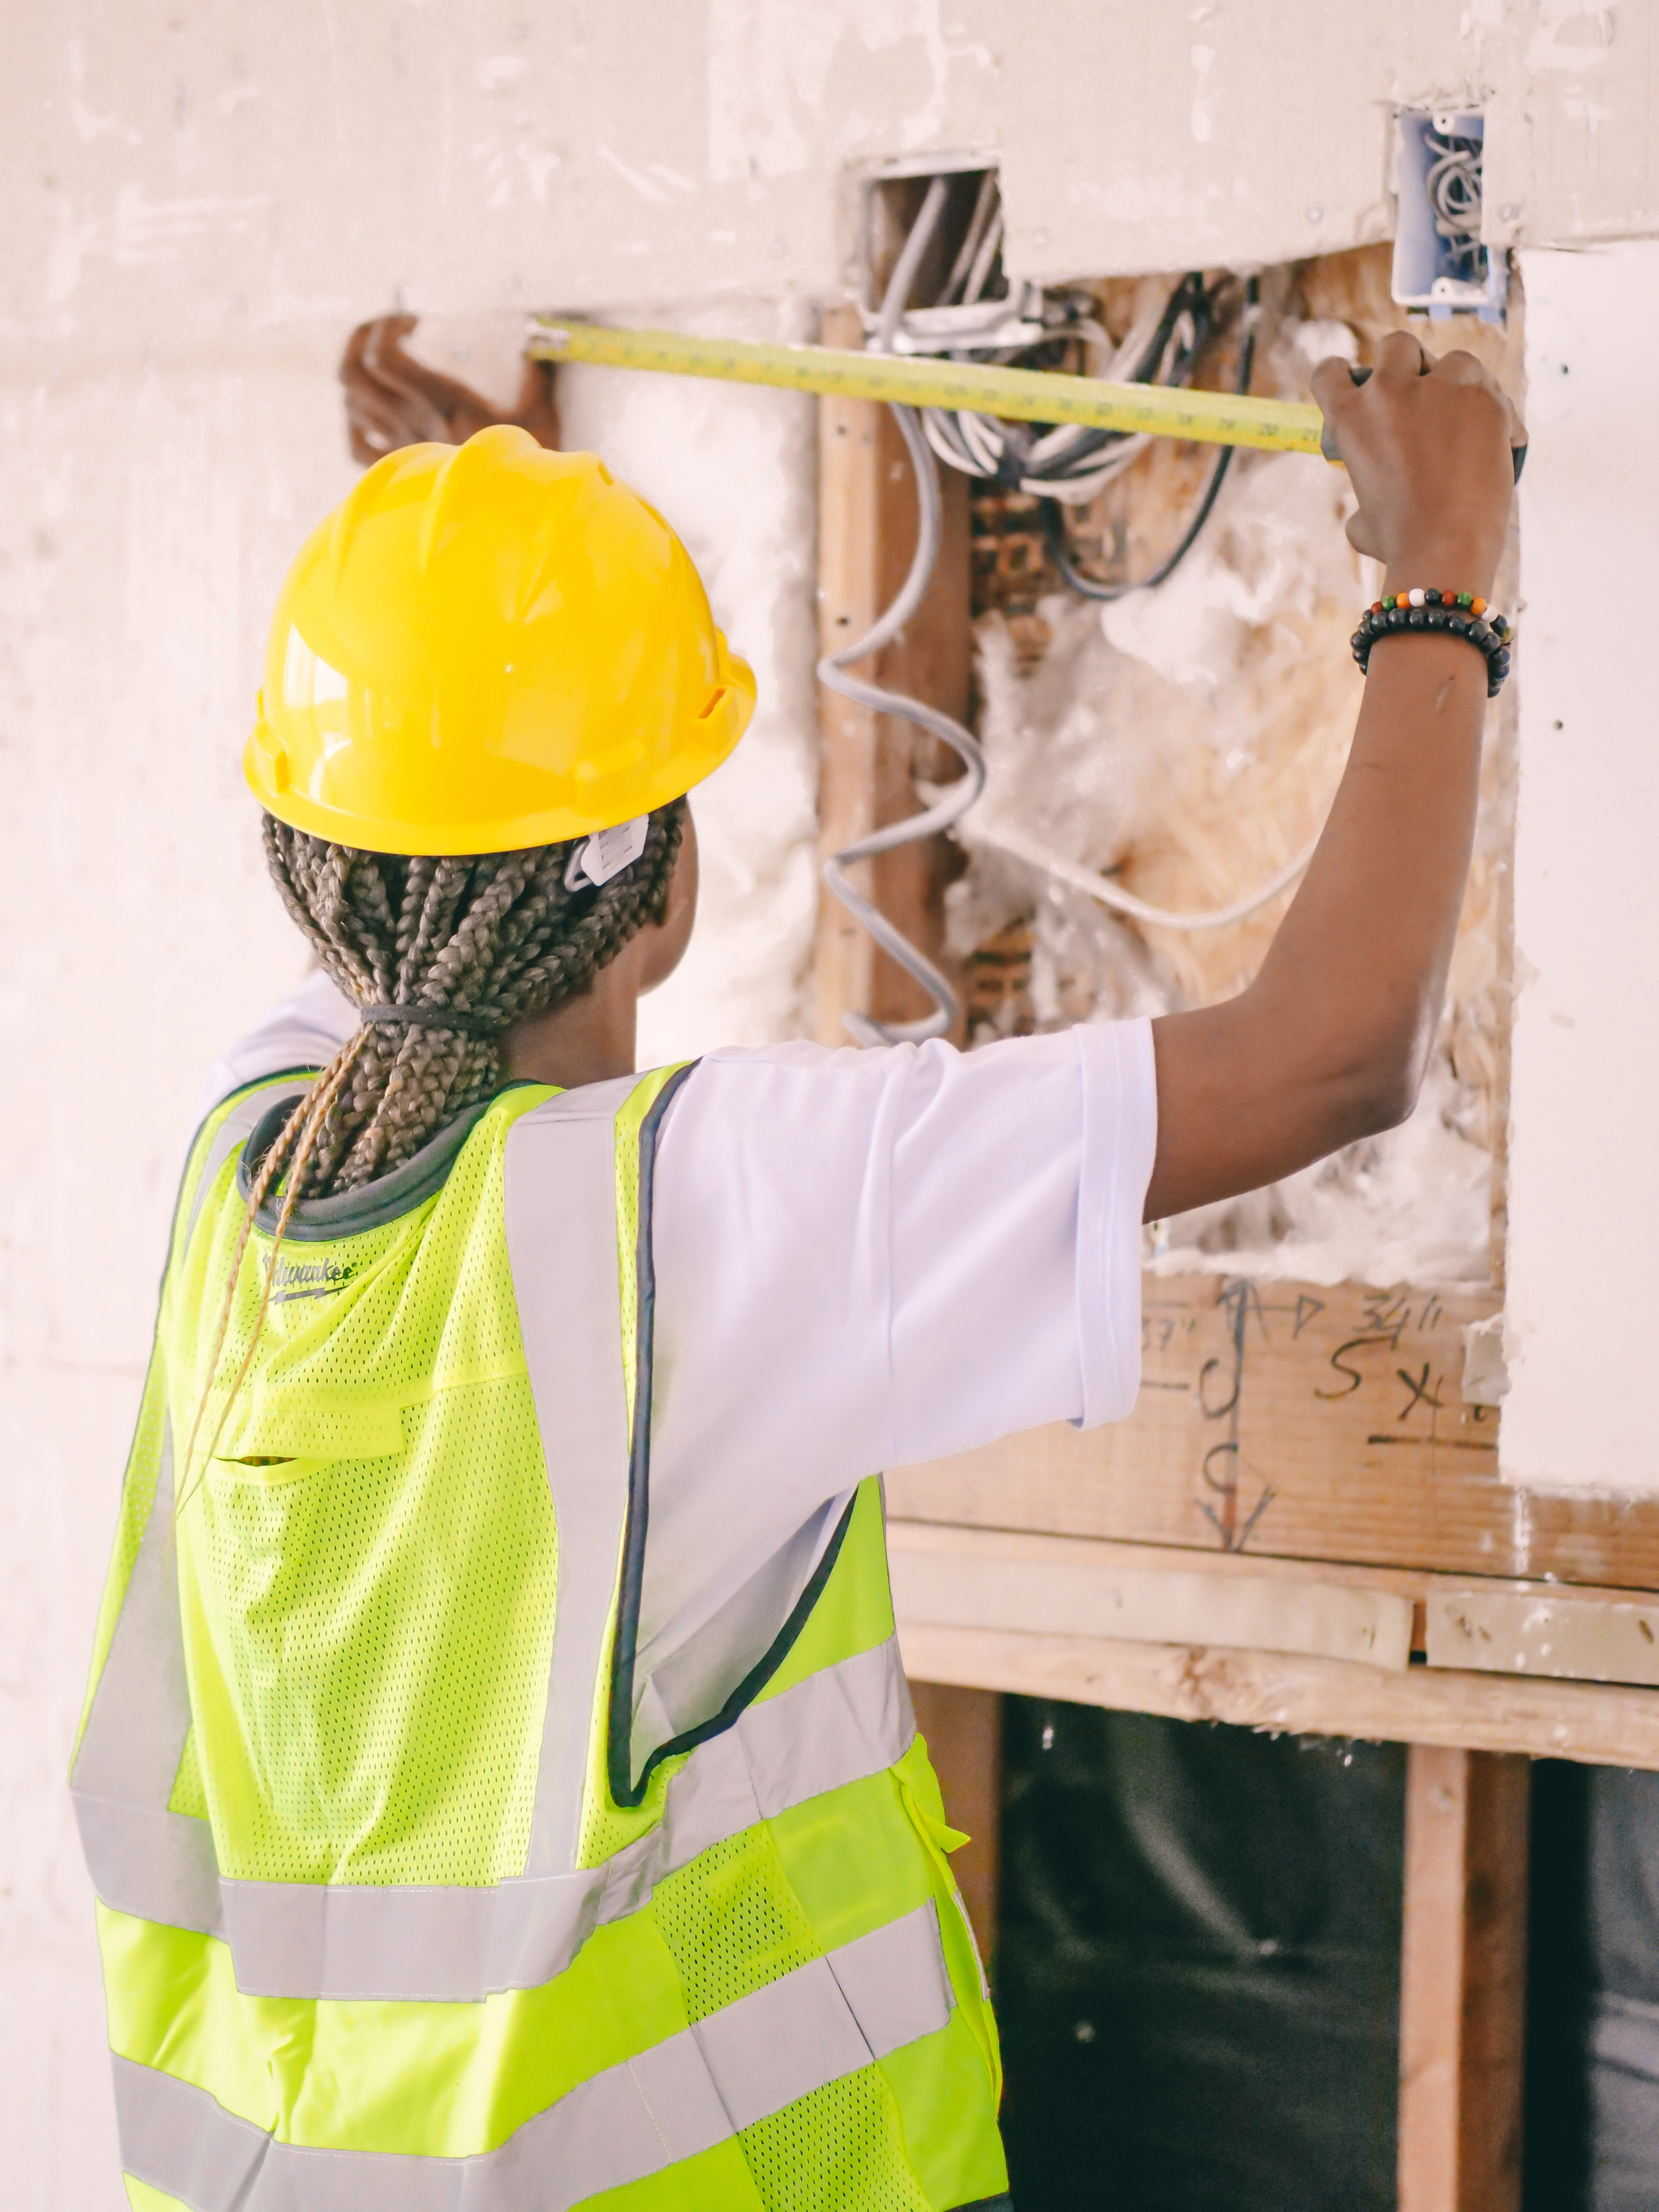Helmet: (223, 411, 793, 1118)
Reflective vest: (56, 1052, 1023, 2212)
